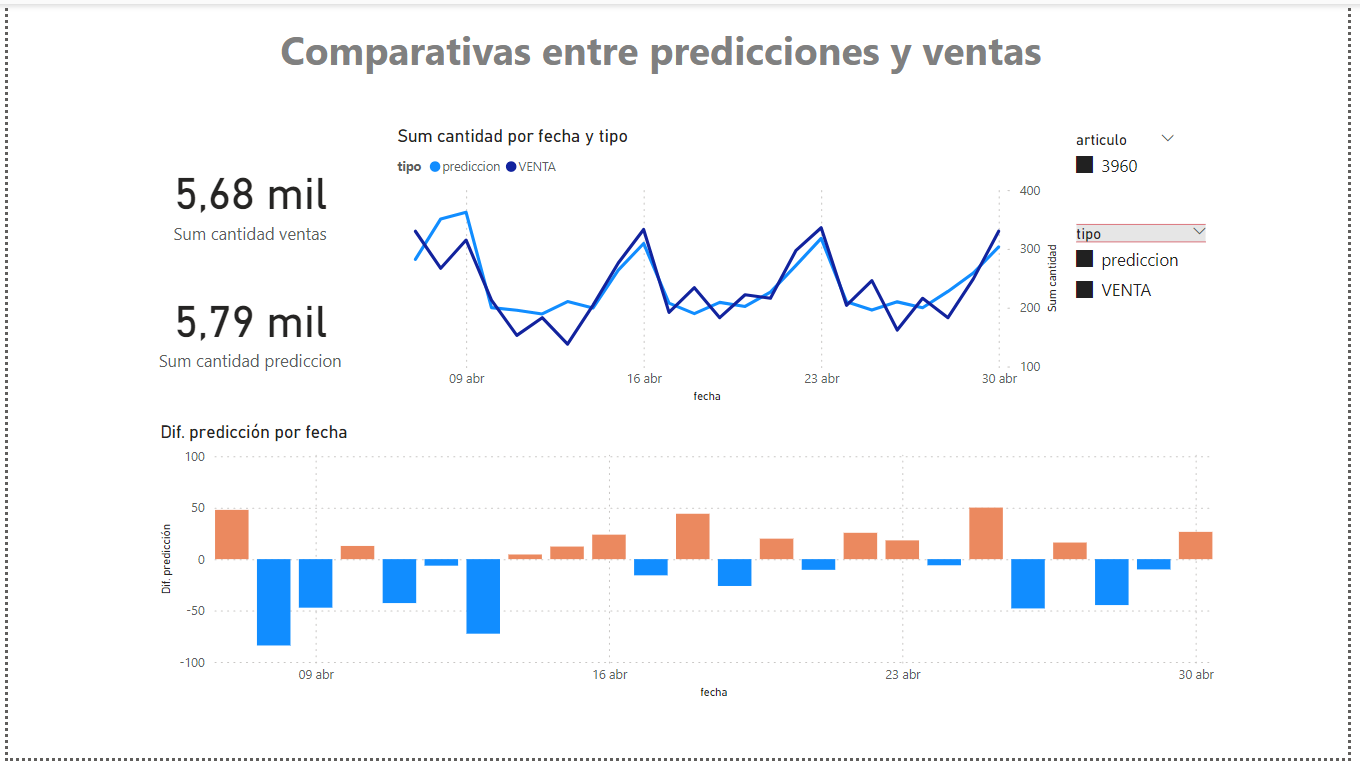

The dashboard page shown, as its layout file describes it:
{"tool":"powerbi","page":{"name":"Predicción","canvas":[1280,720],"ordinal":2},"visuals":[{"type":"lineChart","fields":{"Category":["Datos.fecha"],"Y2":["Medidas.Sum cantidad"],"Series":["Datos.tipo"]},"box":[366.4,116.6,641,268.8],"z":0},{"type":"slicer","fields":{"Values":["Datos.articulo"]},"box":[1007.4,116.6,119.3,73.2],"z":1000},{"type":"clusteredColumnChart","fields":{"Y":["Medidas.dif prediccion"],"Category":["Datos.fecha"]},"box":[140.5,398.2,1016.4,268.8],"z":2000},{"type":"slicer","fields":{"Values":["Datos.tipo"]},"box":[1007.4,204.1,149.5,119.3],"z":3000},{"type":"card","fields":{"Values":["Medidas.Sum cantidad prediccion"]},"box":[96.2,244.7,269.7,127.3],"z":4000},{"type":"card","fields":{"Values":["Medidas.Sum cantidad ventas"]},"box":[96.2,111.3,269.7,150],"z":5000},{"type":"textbox","box":[254.5,12.7,787.4,85.9],"z":6000}]}

Visuals, with their boxes in screenshot pixels (x1, y1, x2, y2), scaled from the page's 1280x720 canvas onto the 1360x769 screenshot:
lineChart - Datos.fecha x Medidas.Sum cantidad: Rect(389, 125, 1070, 412)
slicer - Datos.articulo: Rect(1070, 125, 1197, 203)
clusteredColumnChart - Medidas.dif prediccion x Datos.fecha: Rect(149, 425, 1229, 712)
slicer - Datos.tipo: Rect(1070, 218, 1229, 345)
card - Medidas.Sum cantidad prediccion: Rect(102, 261, 389, 397)
card - Medidas.Sum cantidad ventas: Rect(102, 119, 389, 279)
textbox: Rect(270, 14, 1107, 105)
